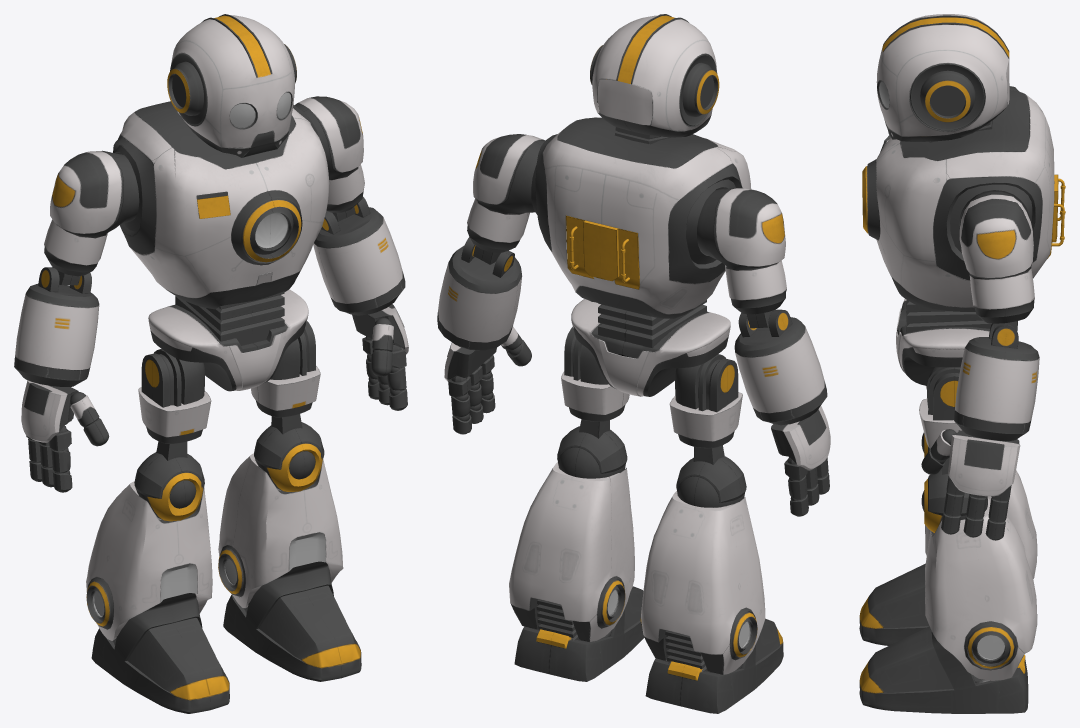
The model's file is Roboto_Sketchfab.fbx.
The picture shows the model from 3 angles, left to right: view 1: azimuth 30°, elevation 25°; view 2: azimuth 150°, elevation 25°; view 3: azimuth 270°, elevation 25°; orthographic projection.
Visible parts, largest first — view 1: Torso.002, Shin.002, Feet.002, Head.003, Forearm_L, Arm.002, Pelvis.002, Legs-02.002, Legs-01.002, Torso-Middle-01.003, Knee.002, Hand.002 (+9 smaller); view 2: Shin.002, Torso.002, Arm.002, Forearm_L, Feet.002, Head.003, Pelvis.002, Legs-02.002, Legs-01.002, Back-Door.002, Knee-Top.002, Hand.002 (+8 smaller); view 3: Torso.002, Shin.002, Head.003, Feet.002, Arm.002, Forearm_L, Hand.002, Pelvis.002, Belly.002, Legs-01.002, Torso-Middle-01.003, Knee-Top.002 (+9 smaller).
Part boxes in pixels (left/top/right/bottom): Torso.002: left=113, top=101, right=329, bottom=309; Shin.002: left=86, top=453, right=343, bottom=640; Feet.002: left=91, top=561, right=361, bottom=713; Head.003: left=167, top=14, right=296, bottom=157; Forearm_L: left=14, top=207, right=405, bottom=386; Arm.002: left=44, top=96, right=364, bottom=276; Pelvis.002: left=148, top=289, right=308, bottom=391; Legs-02.002: left=138, top=366, right=320, bottom=443; Legs-01.002: left=141, top=321, right=315, bottom=407; Torso-Middle-01.003: left=231, top=190, right=302, bottom=265; Knee.002: left=136, top=443, right=322, bottom=521; Hand.002: left=21, top=304, right=408, bottom=442; Shin.002: left=509, top=462, right=765, bottom=674; Torso.002: left=531, top=117, right=751, bottom=318; Arm.002: left=467, top=134, right=786, bottom=314; Forearm_L: left=437, top=246, right=827, bottom=425; Feet.002: left=514, top=586, right=783, bottom=713; Head.003: left=590, top=14, right=719, bottom=137; Pelvis.002: left=571, top=299, right=730, bottom=396; Legs-02.002: left=561, top=371, right=742, bottom=448; Legs-01.002: left=564, top=327, right=738, bottom=412; Back-Door.002: left=566, top=215, right=639, bottom=289; Knee-Top.002: left=557, top=426, right=746, bottom=502; Hand.002: left=444, top=342, right=830, bottom=470; Torso.002: left=876, top=90, right=1054, bottom=311; Shin.002: left=925, top=470, right=1037, bottom=680; Head.003: left=876, top=14, right=1009, bottom=141; Feet.002: left=859, top=563, right=1028, bottom=713; Arm.002: left=959, top=86, right=1034, bottom=323; Forearm_L: left=954, top=337, right=1039, bottom=441; Hand.002: left=947, top=430, right=1020, bottom=496; Pelvis.002: left=896, top=298, right=989, bottom=385; Belly.002: left=906, top=300, right=991, bottom=332; Legs-01.002: left=927, top=367, right=960, bottom=420; Torso-Middle-01.003: left=862, top=159, right=880, bottom=239; Knee-Top.002: left=928, top=446, right=969, bottom=515.
Size of the model in its own units: 112 by 179 by 52.03.
